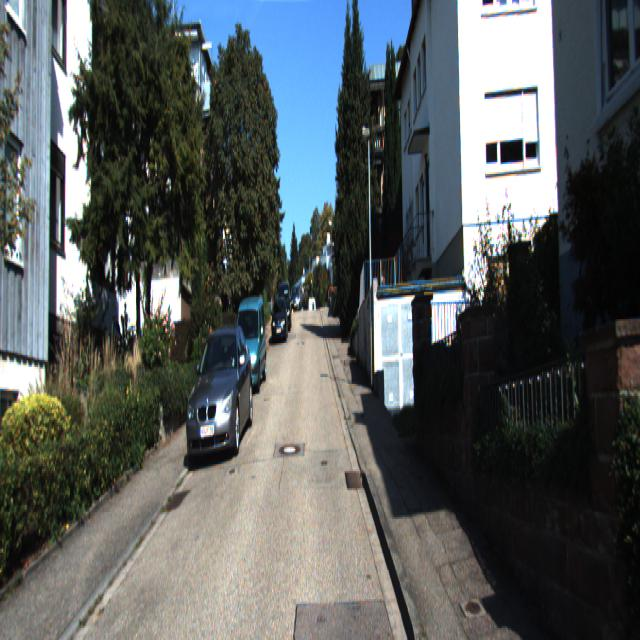Car: (181, 324, 255, 468), (229, 295, 267, 396), (276, 282, 292, 332), (271, 296, 288, 341)
